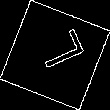L_SW: (26, 30, 84, 80)
